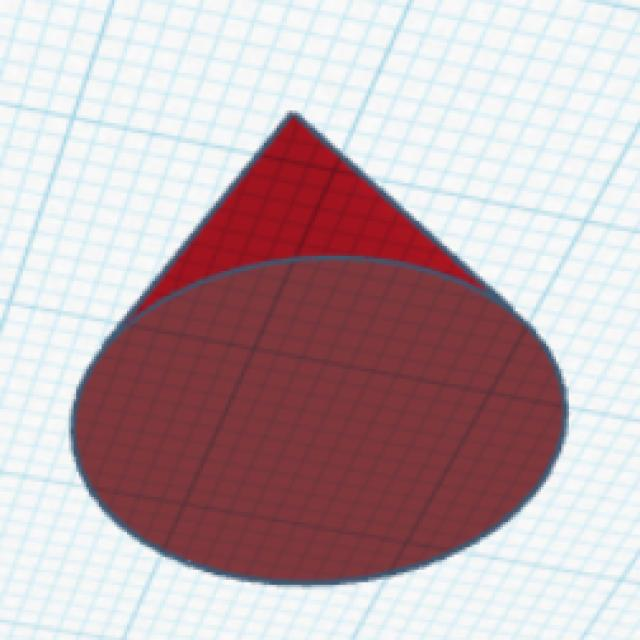cone: (64, 101, 575, 592)
